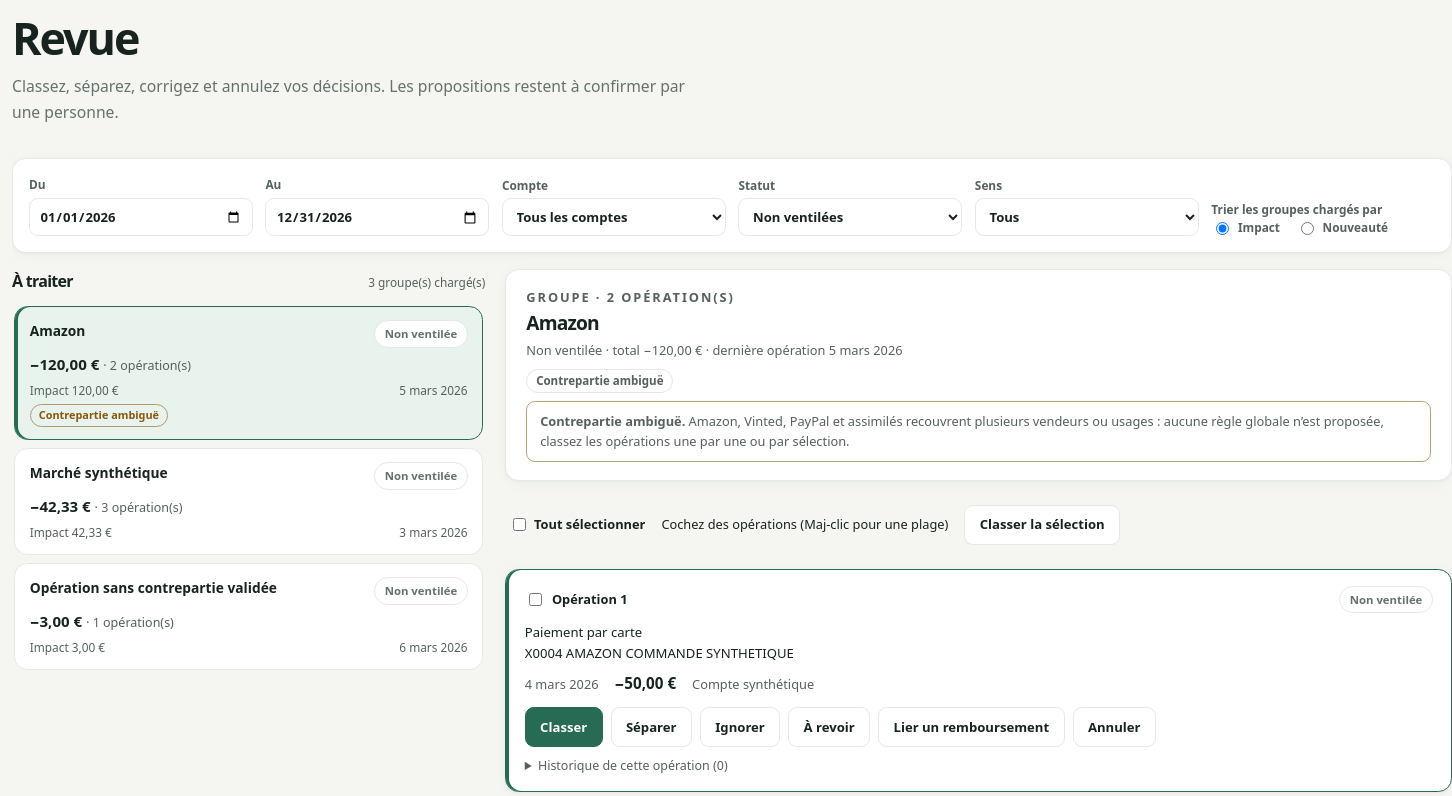
Scenario: UI-REVIEW-02 · filtres dans l’URL, sans libellé › écrit les filtres en paramètres et ne laisse jamais q ni libellé dans l’URL
Expected: the list that starts with "Amazon" is shown, [12, 304, 485, 672]
Select "Débits" in the dropdown labelled "Sens". click: (1087, 217)
box: [975, 198, 1199, 236]
(page scrolled)
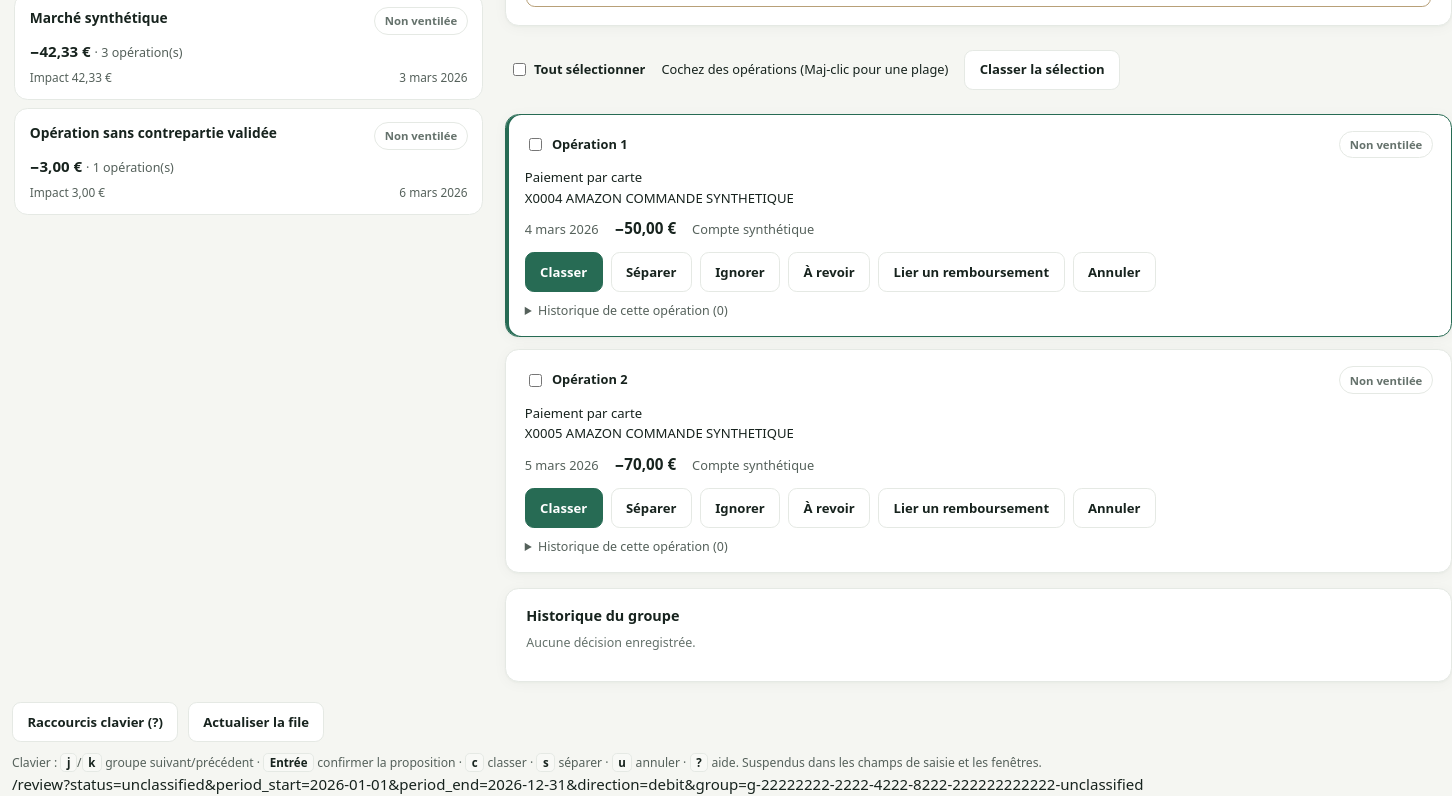
Expected: the text with test id "location" shows "direction=debit", [64, 774, 1144, 794]
